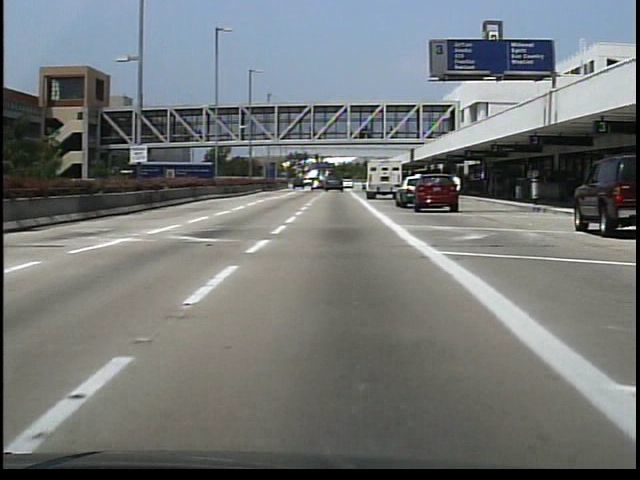person: (448, 174, 466, 211)
